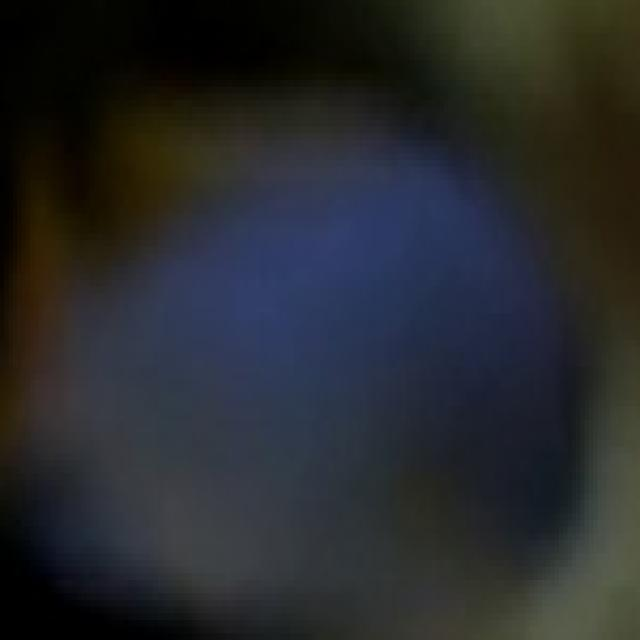fish: (1, 6, 636, 640)
